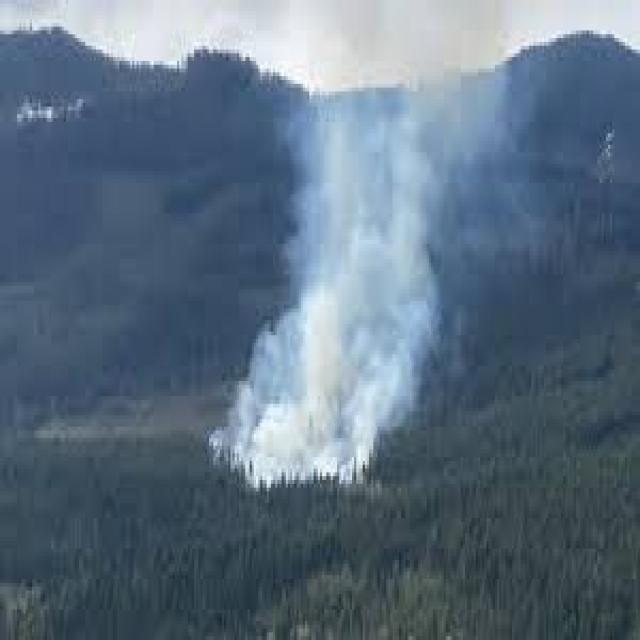Smoke: (212, 7, 452, 492)
